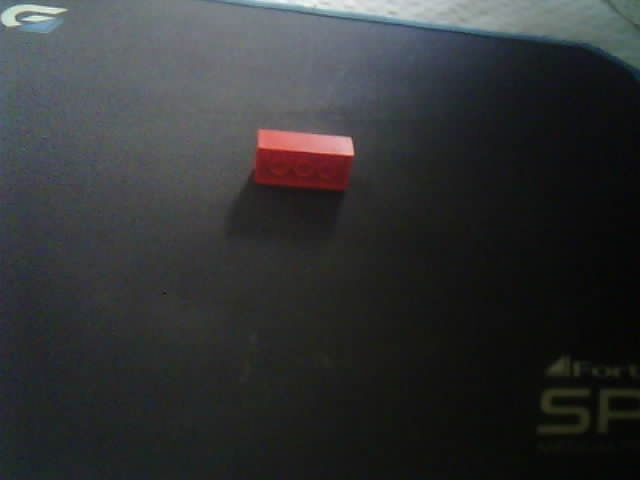lego: (253, 127, 355, 193)
